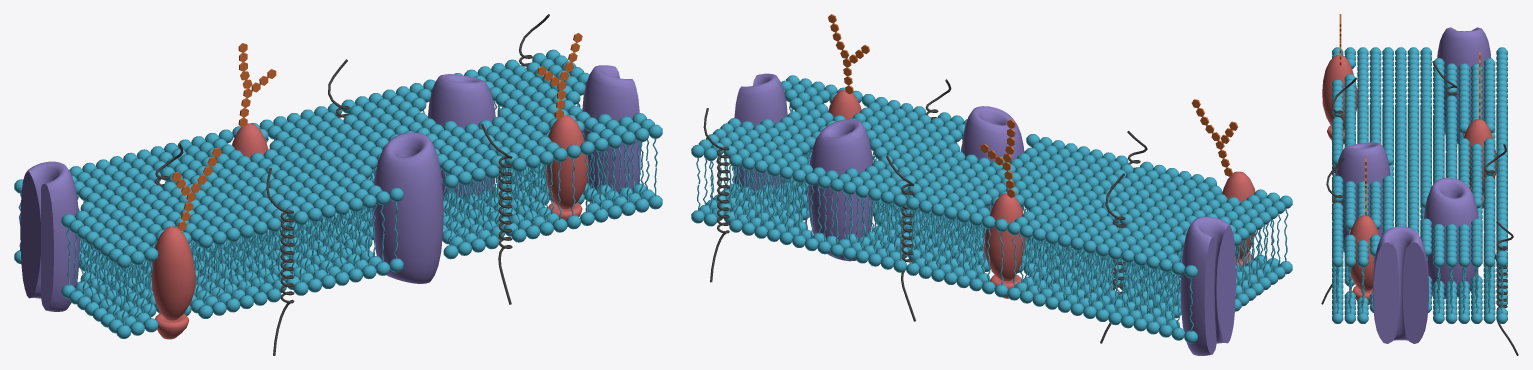
The model's file is asset-1701549006248.fbx.
3 views of the same model, side by side, from view 1: azimuth 30°, elevation 25°; view 2: azimuth 150°, elevation 25°; view 3: azimuth 270°, elevation 25° (orthographic). The views are drawn at different scales.
Parts seen in each view (by area): view 1: base.001, Torus.009, Torus.008, Torus.007, Torus.006, Sphere.011, Sphere.007, Spiral.014, Spiral.012, hex.006, hex.007, hex.005 (+2 smaller); view 2: base.001, Torus.008, Torus.006, Torus.007, Torus.009, Sphere.009, Spiral.011, Sphere.011, hex.007, hex.005, hex.006, Spiral.010 (+2 smaller); view 3: base.001, Torus.007, Torus.006, Torus.009, Torus.008, Sphere.007, Sphere.011, Sphere.009, Spiral.011, Spiral.012, Spiral.014.
Part boxes in pixels (bbox=[...]): base.001: bbox=[14, 49, 662, 338]; Torus.009: bbox=[372, 132, 443, 283]; Torus.008: bbox=[20, 161, 79, 311]; Torus.007: bbox=[582, 65, 640, 202]; Torus.006: bbox=[428, 74, 495, 197]; Sphere.011: bbox=[151, 226, 195, 320]; Sphere.007: bbox=[545, 115, 588, 209]; Spiral.014: bbox=[266, 168, 294, 355]; Spiral.012: bbox=[481, 124, 512, 304]; hex.006: bbox=[238, 43, 276, 127]; hex.007: bbox=[171, 147, 221, 230]; hex.005: bbox=[537, 33, 582, 119]; base.001: bbox=[691, 75, 1292, 343]; Torus.008: bbox=[1180, 216, 1235, 355]; Torus.006: bbox=[808, 119, 873, 261]; Torus.007: bbox=[733, 73, 787, 192]; Torus.009: bbox=[961, 106, 1024, 212]; Sphere.009: bbox=[984, 193, 1025, 281]; Spiral.011: bbox=[703, 108, 729, 282]; Sphere.011: bbox=[1222, 171, 1255, 259]; hex.007: bbox=[1191, 99, 1237, 176]; hex.005: bbox=[828, 14, 869, 94]; hex.006: bbox=[980, 119, 1015, 197]; Spiral.010: bbox=[886, 155, 915, 321]; base.001: bbox=[1332, 47, 1507, 323]; Torus.007: bbox=[1372, 226, 1429, 343]; Torus.006: bbox=[1424, 178, 1478, 299]; Torus.009: bbox=[1335, 142, 1390, 252]; Torus.008: bbox=[1437, 27, 1491, 143]; Sphere.007: bbox=[1350, 215, 1379, 291]; Sphere.011: bbox=[1322, 55, 1357, 130]; Sphere.009: bbox=[1464, 119, 1496, 194]; Spiral.011: bbox=[1496, 221, 1518, 355]; Spiral.012: bbox=[1321, 157, 1344, 304]; Spiral.014: bbox=[1331, 77, 1356, 213].
Bounding box in the file's own units: 44.18 × 17.84 × 17.16.
